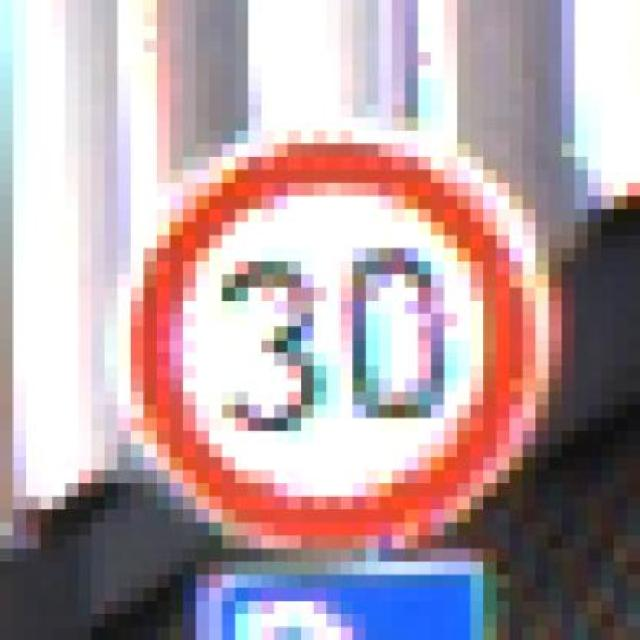Speed Limit 30 KMPh: (78, 90, 588, 562)
